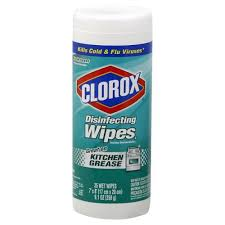Wipes: (69, 3, 155, 220)
